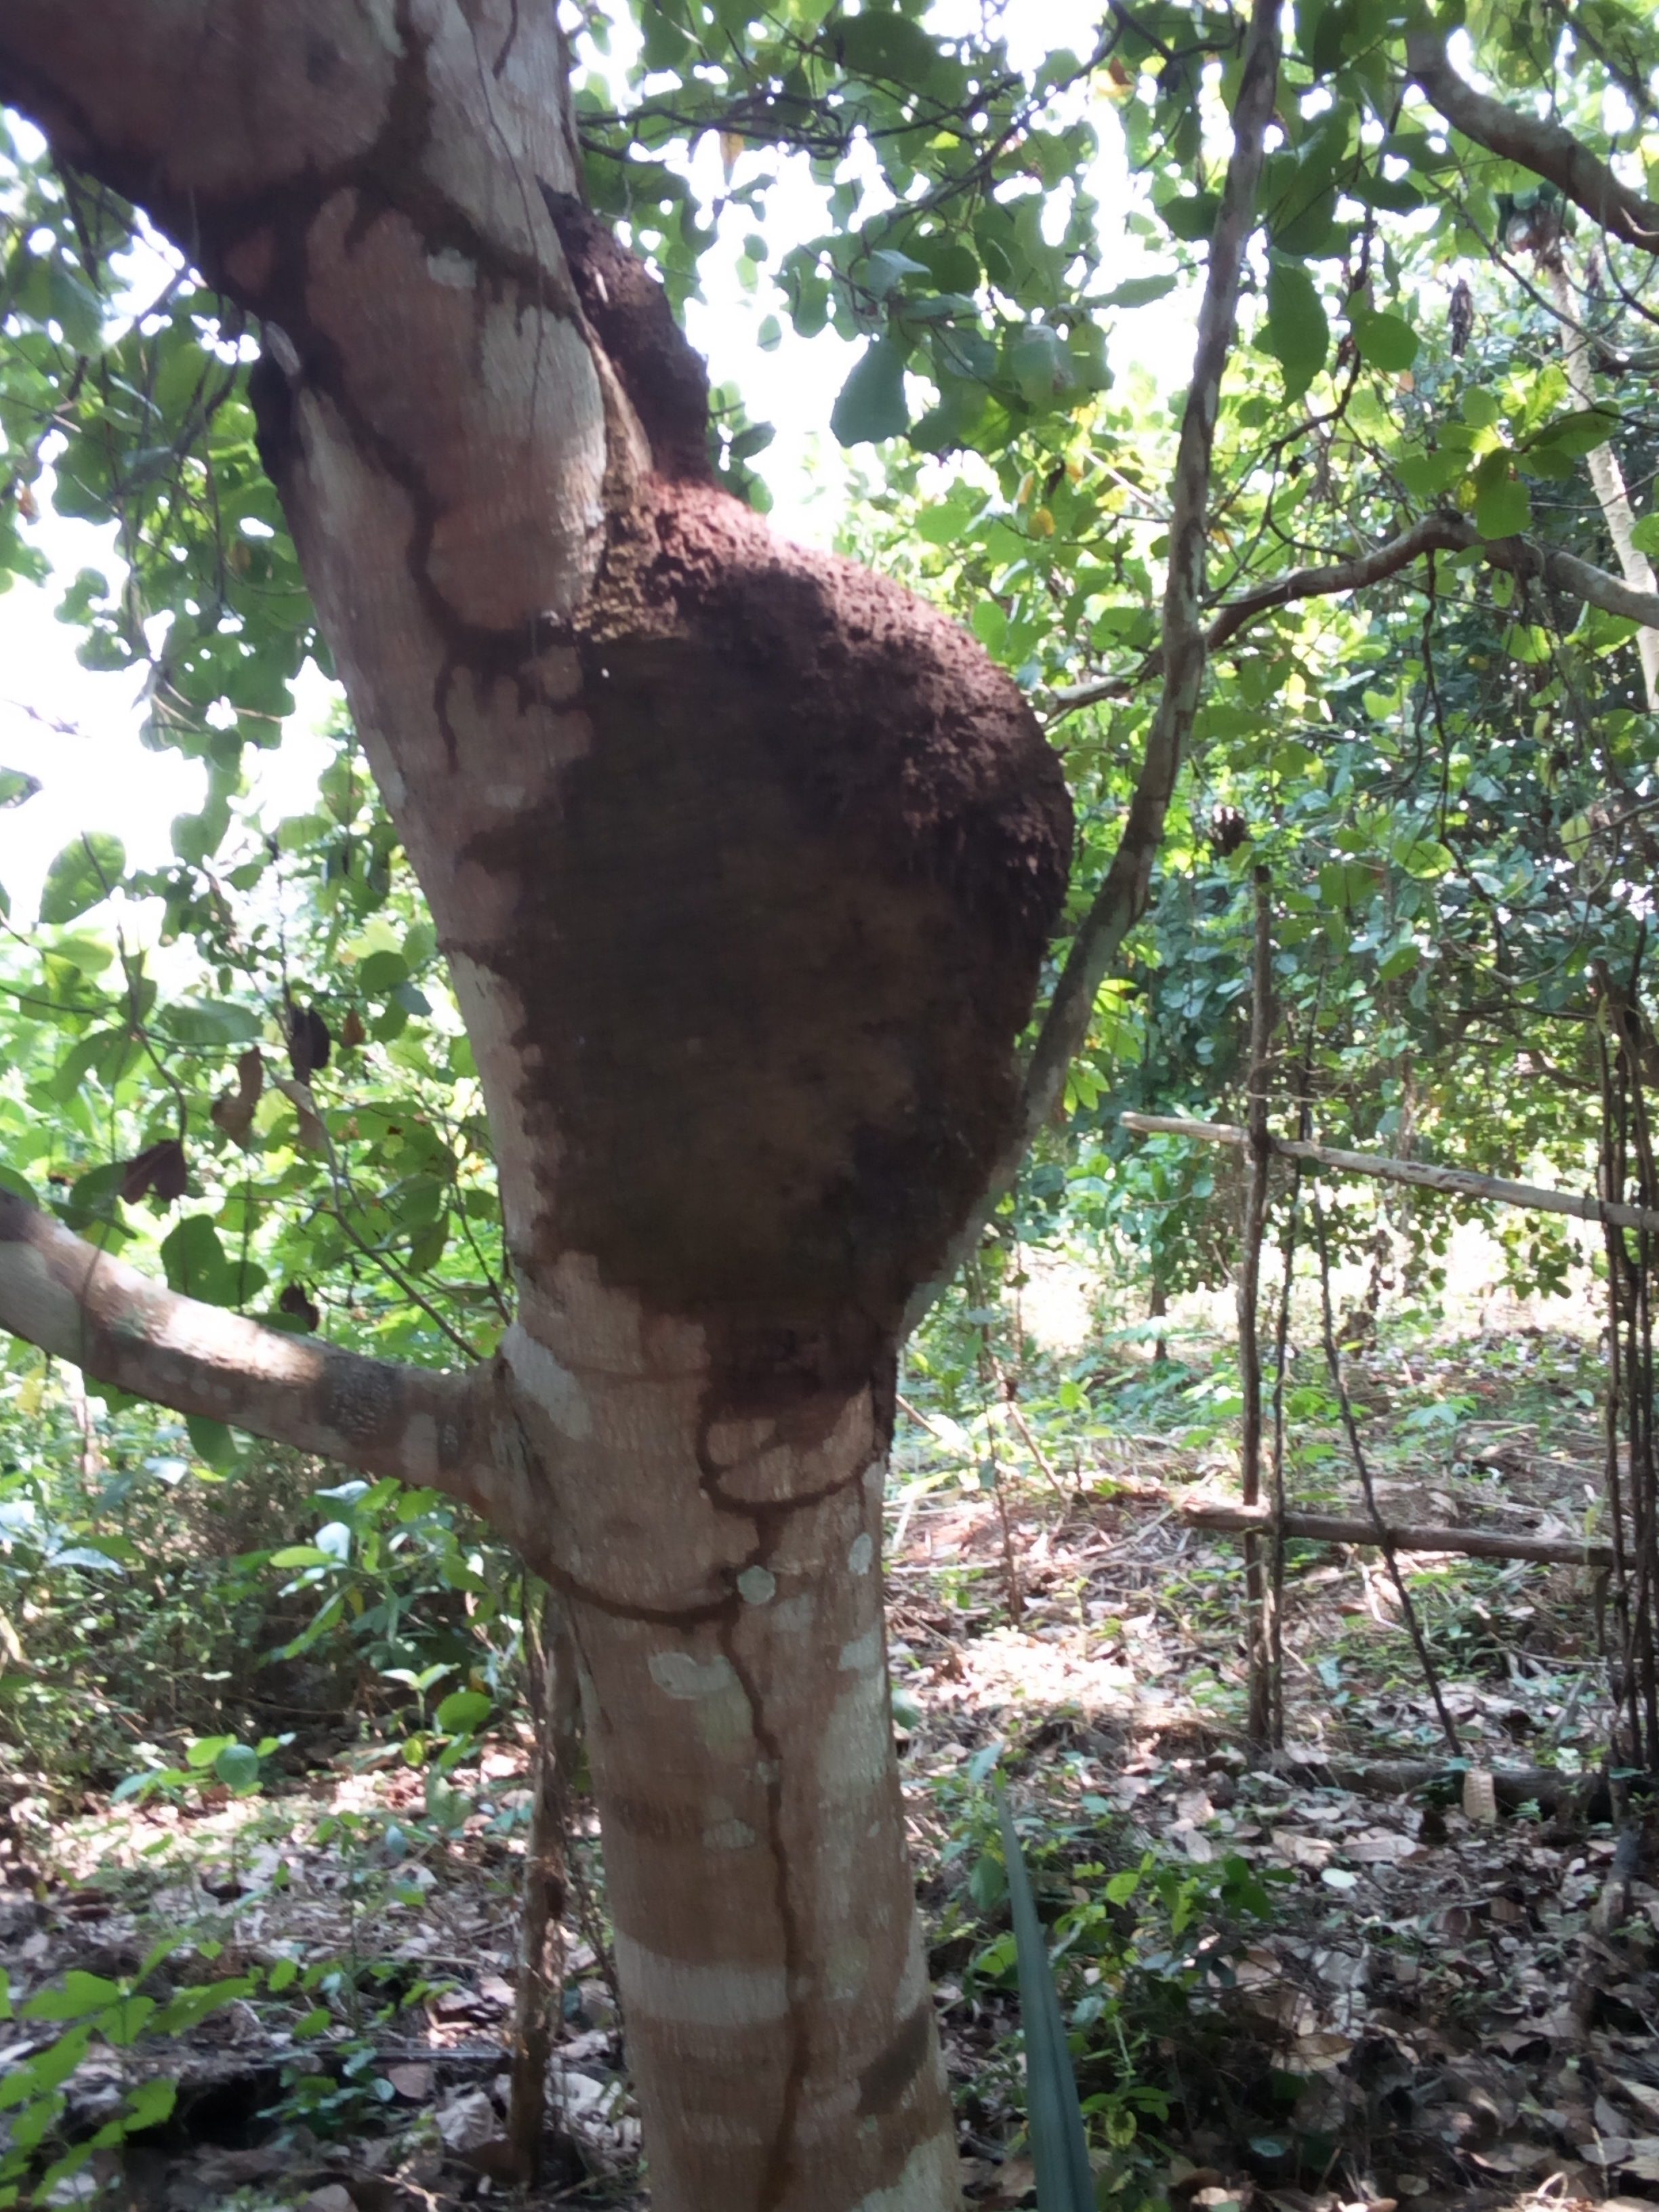Termites: (589, 462, 1077, 1357)
